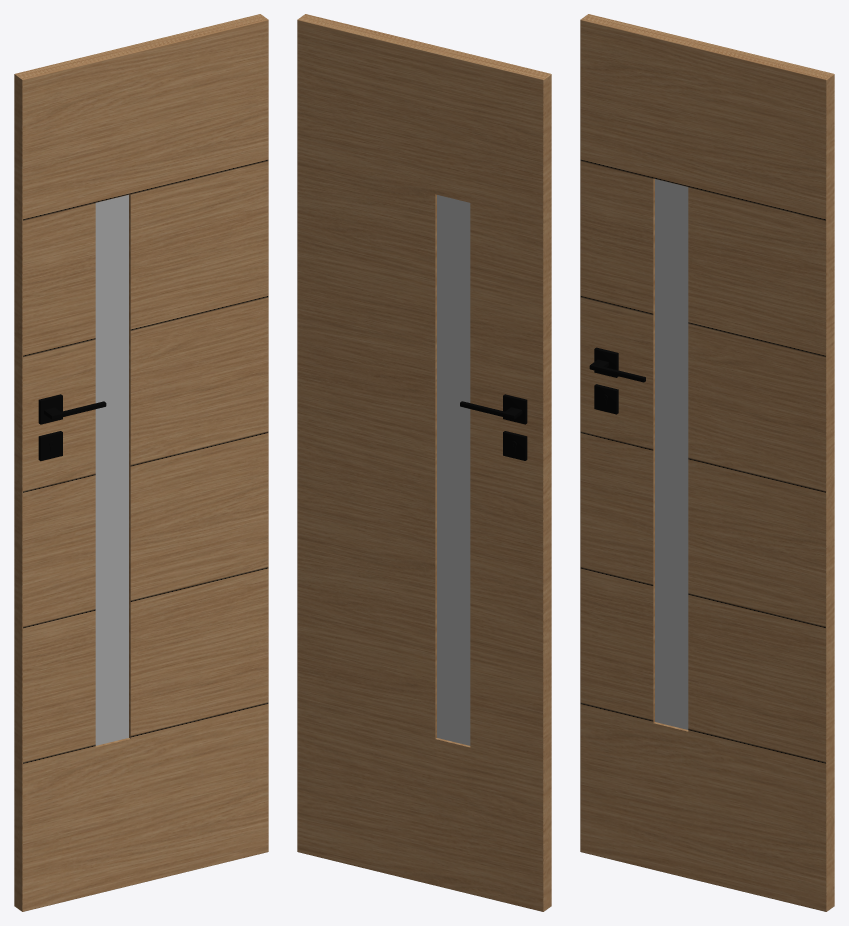
The model's file is VE_7_full2_door.glb.
3 renders of one model, left to right at view 1: azimuth 30°, elevation 25°; view 2: azimuth 150°, elevation 25°; view 3: azimuth 330°, elevation 25°, orthographic.
Visible parts, largest first — view 1: V_E_7__2_door_; view 2: V_E_7__2_door_; view 3: V_E_7__2_door_.
Part boxes in pixels (x1=…): V_E_7__2_door_: x1=14, y1=14, x2=268, y2=911; V_E_7__2_door_: x1=297, y1=14, x2=551, y2=911; V_E_7__2_door_: x1=580, y1=14, x2=834, y2=911.
Size of the model in its own units: 0.5514 by 1.78 by 0.1089.
Materials: 2 (1 with a texture image).
